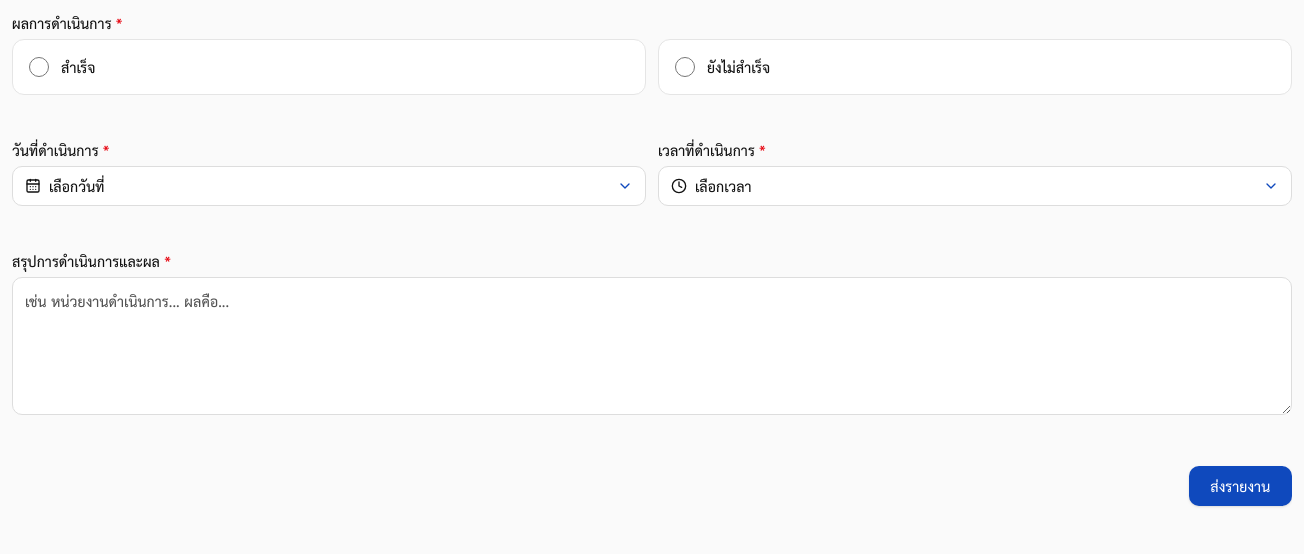
it: ReferralReportForm › names what is missing under each field instead of sending
Click the button "ส่งรายงาน" at (1240, 486), box [1189,466,1292,506]
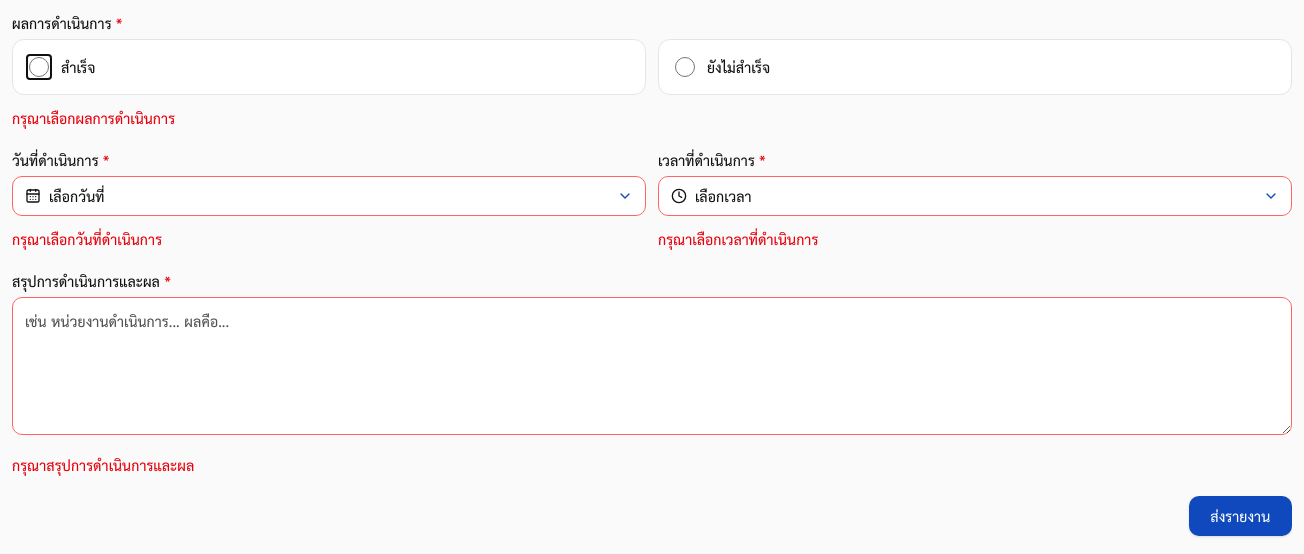
Check: the text "กรุณาเลือกผลการดำเนินการ" is shown, box [12,106,175,129]
Check: the text "กรุณาสรุปการดำเนินการและผล" is shown, box [12,453,194,476]
